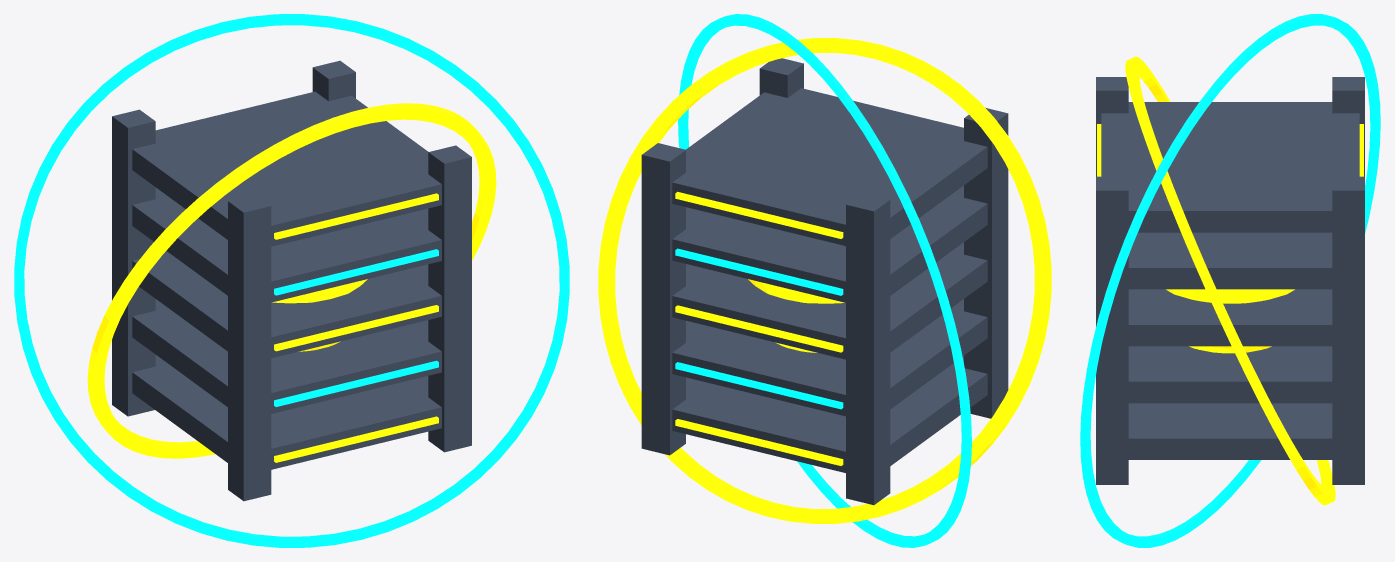
File: aws_cloud_core.glb
The picture shows the model from 3 angles, left to right: view 1: azimuth 30°, elevation 25°; view 2: azimuth 150°, elevation 25°; view 3: azimuth 270°, elevation 25°; orthographic projection. The views are drawn at different scales.
Parts seen in each view (by area): view 1: ServerBlade_4, DataRing2, Pillar_1, ServerBlade_0, ServerBlade_1, DataRing1, ServerBlade_3, ServerBlade_2, Pillar_3, Pillar_0, Pillar_2, LED_4_0.89 (+5 smaller); view 2: ServerBlade_4, DataRing1, Pillar_0, ServerBlade_3, ServerBlade_0, ServerBlade_1, ServerBlade_2, Pillar_2, DataRing2, Pillar_1, Pillar_3, LED_3_-0.89 (+5 smaller); view 3: ServerBlade_4, ServerBlade_3, DataRing2, ServerBlade_0, ServerBlade_1, Pillar_2, ServerBlade_2, Pillar_3, DataRing1, EnergyCore, Pillar_0, Pillar_1.
Part boxes in pixels (left/top/right/bottom): ServerBlade_4: left=132, top=91, right=441, bottom=246; DataRing2: left=14, top=14, right=569, bottom=547; Pillar_1: left=228, top=194, right=271, bottom=501; ServerBlade_0: left=132, top=355, right=441, bottom=469; ServerBlade_1: left=132, top=299, right=441, bottom=413; DataRing1: left=87, top=103, right=496, bottom=458; ServerBlade_3: left=132, top=187, right=441, bottom=302; ServerBlade_2: left=132, top=251, right=441, bottom=358; Pillar_3: left=428, top=145, right=471, bottom=452; Pillar_0: left=112, top=109, right=155, bottom=416; Pillar_2: left=312, top=60, right=355, bottom=101; LED_4_0.89: left=274, top=193, right=438, bottom=239; ServerBlade_4: left=672, top=88, right=987, bottom=245; DataRing1: left=598, top=38, right=1051, bottom=523; Pillar_0: left=846, top=193, right=890, bottom=505; ServerBlade_3: left=672, top=185, right=987, bottom=302; ServerBlade_0: left=672, top=356, right=987, bottom=472; ServerBlade_1: left=672, top=299, right=987, bottom=416; ServerBlade_2: left=672, top=242, right=987, bottom=359; Pillar_2: left=641, top=143, right=685, bottom=455; DataRing2: left=678, top=14, right=971, bottom=547; Pillar_1: left=964, top=108, right=1008, bottom=418; Pillar_3: left=759, top=58, right=803, bottom=97; LED_3_-0.89: left=675, top=248, right=843, bottom=295; ServerBlade_4: left=1101, top=102, right=1359, bottom=232; ServerBlade_3: left=1128, top=232, right=1332, bottom=289; DataRing2: left=1080, top=14, right=1380, bottom=547; ServerBlade_0: left=1128, top=403, right=1332, bottom=459; ServerBlade_1: left=1128, top=346, right=1332, bottom=403; Pillar_2: left=1332, top=176, right=1364, bottom=484; ServerBlade_2: left=1128, top=289, right=1332, bottom=346; Pillar_3: left=1096, top=176, right=1128, bottom=484; DataRing1: left=1125, top=56, right=1335, bottom=505; EnergyCore: left=1166, top=289, right=1294, bottom=353; Pillar_0: left=1332, top=77, right=1364, bottom=176; Pillar_1: left=1096, top=77, right=1128, bottom=176.
Bounding box in the file's own units: 3.34 × 3.8 × 2.03.
